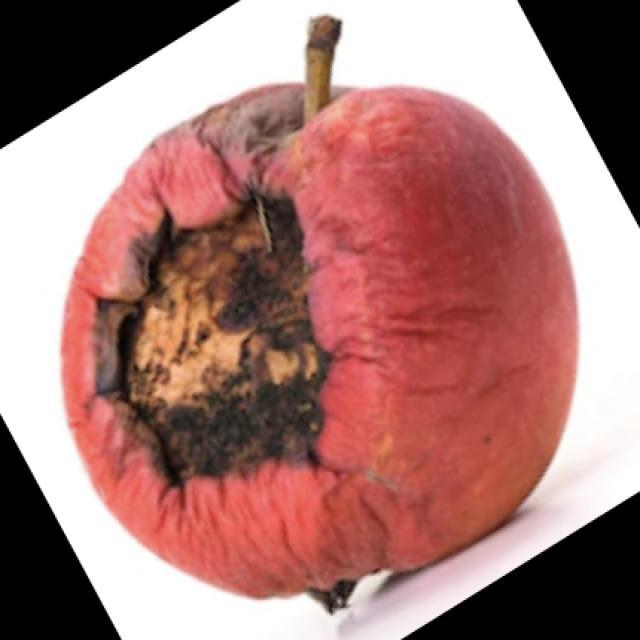Rotten: (87, 87, 575, 575)
